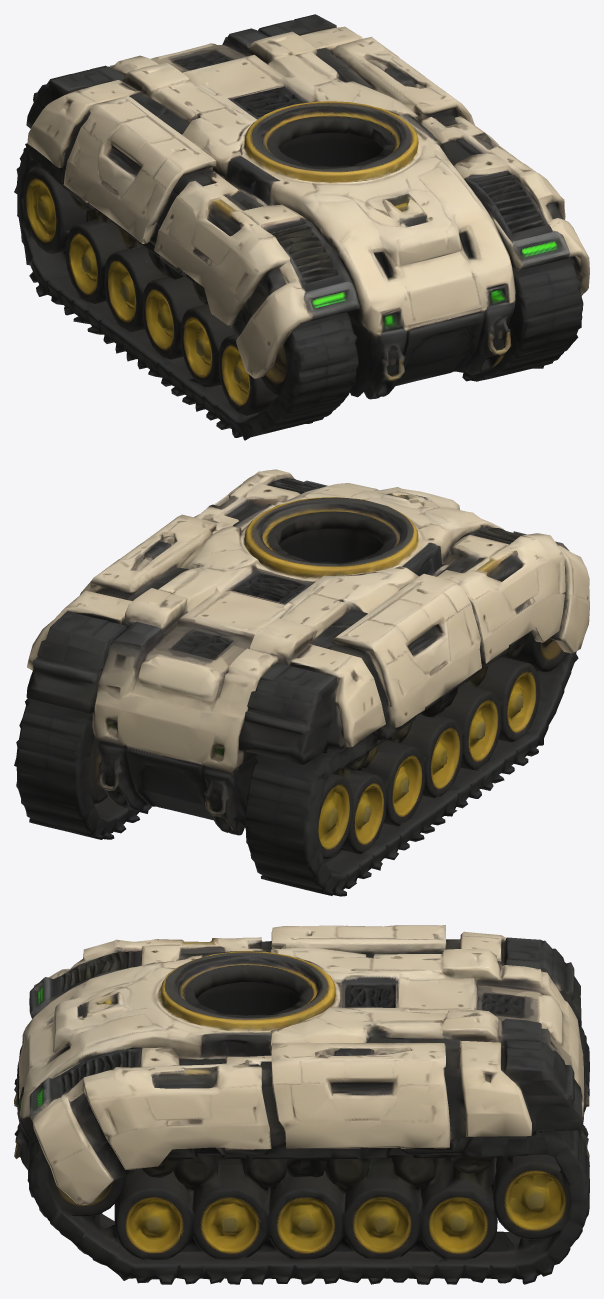
The model's file is heavy_tracks.glb.
The picture shows the model from 3 angles, top to bottom: view 1: azimuth 30°, elevation 25°; view 2: azimuth 150°, elevation 25°; view 3: azimuth 270°, elevation 25°; orthographic projection.
Visible parts, largest first — view 1: tripo_node_dca6562a-5130-4a87-a3da-c05fe6d8ca23; view 2: tripo_node_dca6562a-5130-4a87-a3da-c05fe6d8ca23; view 3: tripo_node_dca6562a-5130-4a87-a3da-c05fe6d8ca23.
Boxes of the visible parts, x1,y1,x2,y2 form: tripo_node_dca6562a-5130-4a87-a3da-c05fe6d8ca23: (14,14,589,440); tripo_node_dca6562a-5130-4a87-a3da-c05fe6d8ca23: (14,469,589,896); tripo_node_dca6562a-5130-4a87-a3da-c05fe6d8ca23: (14,925,589,1284).
Size of the model in its own units: 0.6806 by 0.4292 by 1.
Materials: 1 (1 with a texture image).
